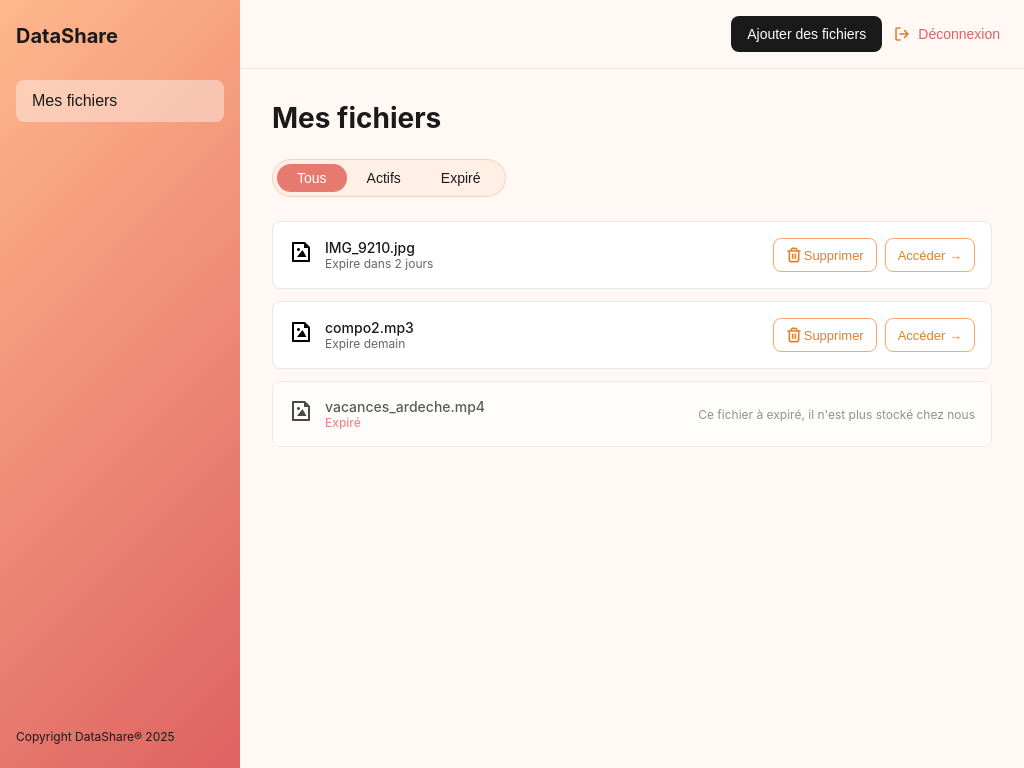
Dashboard › should delete a file
Click the button with class "dashboard__btn-delete" in the row of "IMG_9210.jpg" at (825, 255), box [773, 238, 877, 272]
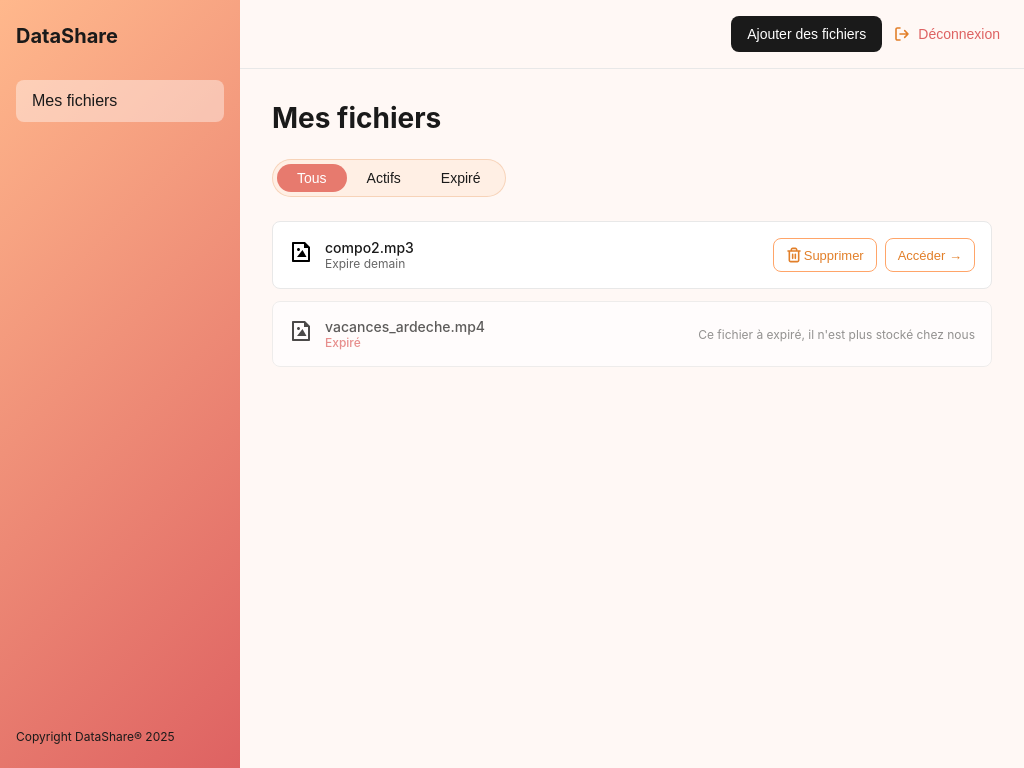
Expected: the number of list items with class "dashboard__item" is 2, [272, 221, 992, 289]; [272, 301, 992, 367]
